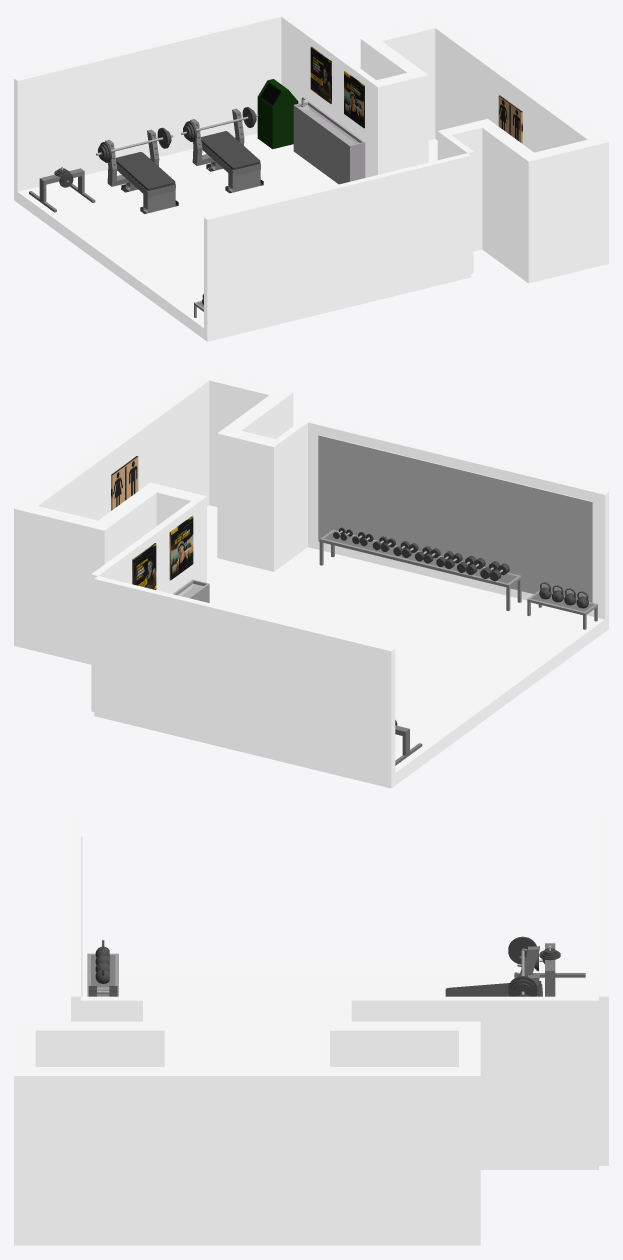
The picture shows the model from 3 angles, top to bottom: view 1: azimuth 30°, elevation 25°; view 2: azimuth 150°, elevation 25°; view 3: azimuth 270°, elevation 25°; orthographic projection. The views are drawn at different scales.
Visible parts, largest first — view 1: Parede.L, Bebedouro, Supino1, Supino2, Lixeira1, Poster 1, Poster 2, Cube.009, Lixeira2; view 2: Parede.L, Espelho, Banco, Poster 2, Cube.009, Poster 1, Banco.001, Bebedouro; view 3: Parede.L, Supino2, Banco.001.
Part boxes in pixels (x1,y1,x2,y2): Parede.L: [14, 14, 608, 341]; Bebedouro: [293, 97, 365, 184]; Supino1: [181, 107, 263, 193]; Supino2: [96, 127, 178, 213]; Lixeira1: [257, 98, 298, 149]; Poster 1: [310, 46, 331, 103]; Poster 2: [344, 71, 364, 128]; Cube.009: [498, 95, 522, 143]; Lixeira2: [257, 79, 298, 108]; Parede.L: [14, 370, 608, 788]; Espelho: [318, 435, 592, 602]; Banco: [319, 530, 521, 610]; Poster 2: [169, 515, 193, 580]; Cube.009: [111, 456, 138, 510]; Poster 1: [132, 543, 156, 589]; Banco.001: [527, 590, 597, 629]; Bebedouro: [173, 579, 209, 602]; Parede.L: [14, 817, 608, 1245]; Supino2: [445, 936, 542, 996]; Banco.001: [87, 953, 118, 987].
Bounding box in the file's own units: 17.22 × 5.26 × 16.74.
13 materials, 3 textured.
